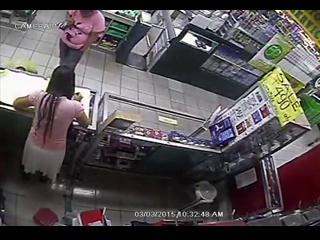Normal: (12, 66, 91, 192)
